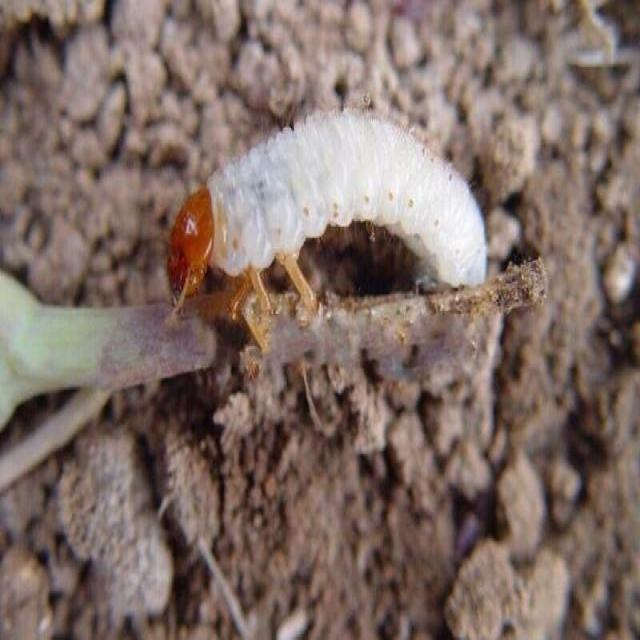grub: (167, 107, 491, 319)
